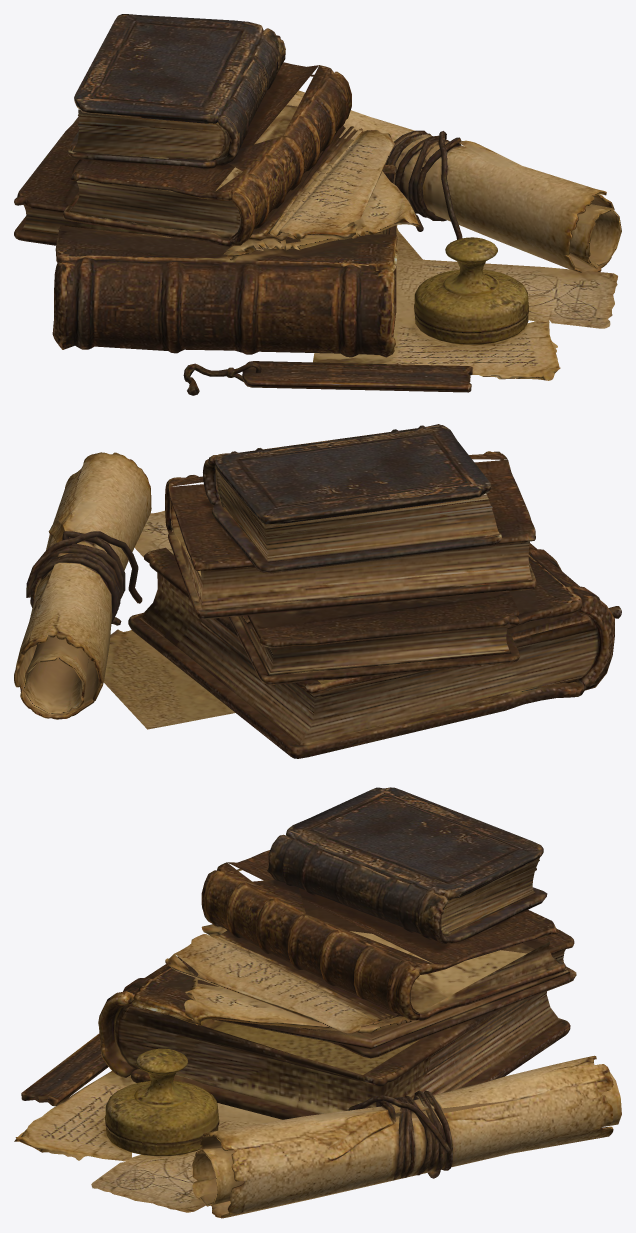
Rendered from fallen-library.glb.
The picture shows the model from 3 angles, top to bottom: view 1: azimuth 30°, elevation 25°; view 2: azimuth 150°, elevation 25°; view 3: azimuth 270°, elevation 25°; orthographic projection. The views are drawn at different scales.
Visible parts, largest first — view 1: cc578c14_d576_4dfd_836f_37785a7730d8; view 2: cc578c14_d576_4dfd_836f_37785a7730d8; view 3: cc578c14_d576_4dfd_836f_37785a7730d8.
Part boxes in pixels (x1,y1,x2,y2): cc578c14_d576_4dfd_836f_37785a7730d8: [14, 14, 621, 395]; cc578c14_d576_4dfd_836f_37785a7730d8: [14, 424, 621, 758]; cc578c14_d576_4dfd_836f_37785a7730d8: [14, 787, 621, 1218].
Size of the model in its own units: 0.9995 by 0.3882 by 0.9868.
1 material, 1 textured.
